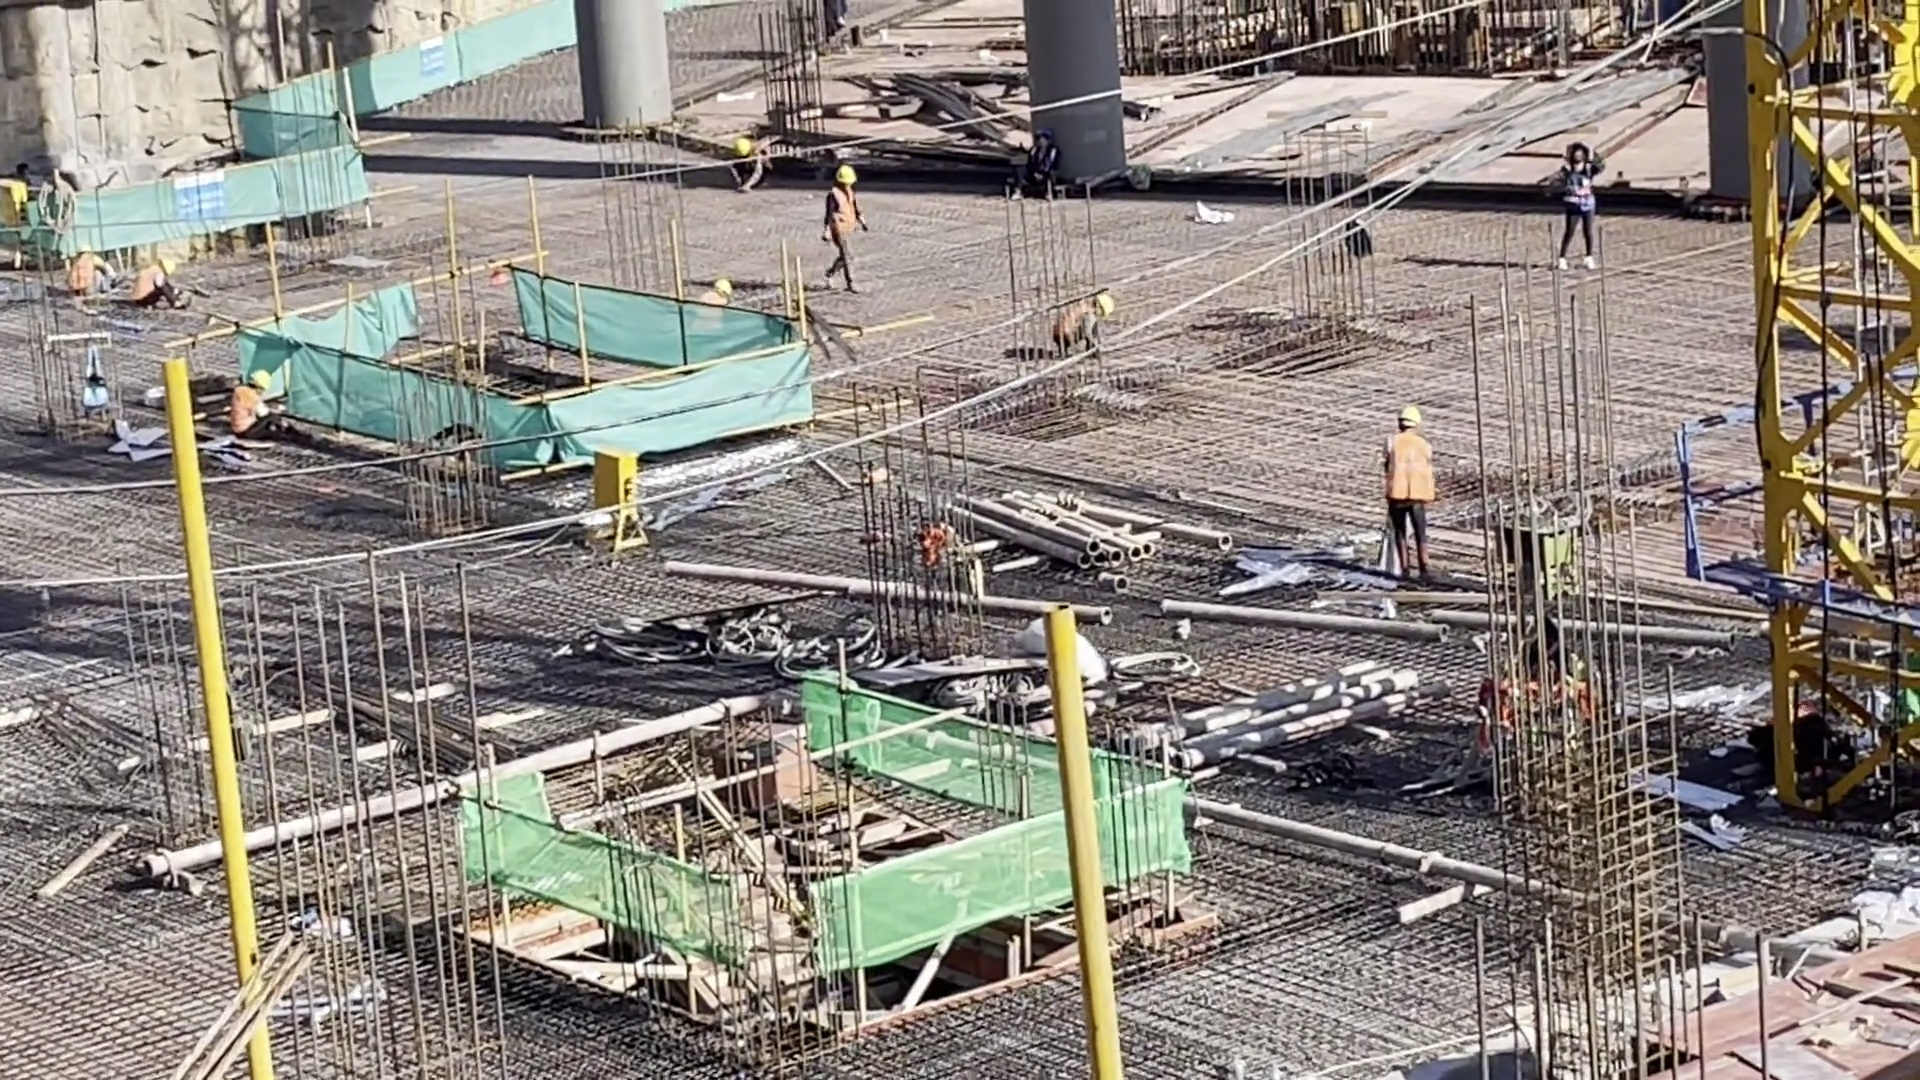helmet: (1092, 290, 1116, 313), (1398, 405, 1423, 426), (249, 368, 270, 391), (836, 159, 854, 183), (731, 138, 755, 156), (158, 254, 176, 275), (715, 279, 735, 297), (75, 242, 89, 256)
person: (1381, 409, 1443, 587), (823, 161, 871, 308), (1560, 138, 1610, 272), (233, 369, 293, 439), (1056, 289, 1115, 357), (64, 241, 123, 302), (132, 256, 195, 309), (730, 131, 785, 187), (1023, 128, 1062, 205), (699, 279, 744, 339)
vest: (1393, 429, 1432, 502), (232, 387, 265, 438), (829, 187, 854, 234), (1058, 304, 1087, 341), (70, 256, 96, 295), (132, 268, 158, 303)
